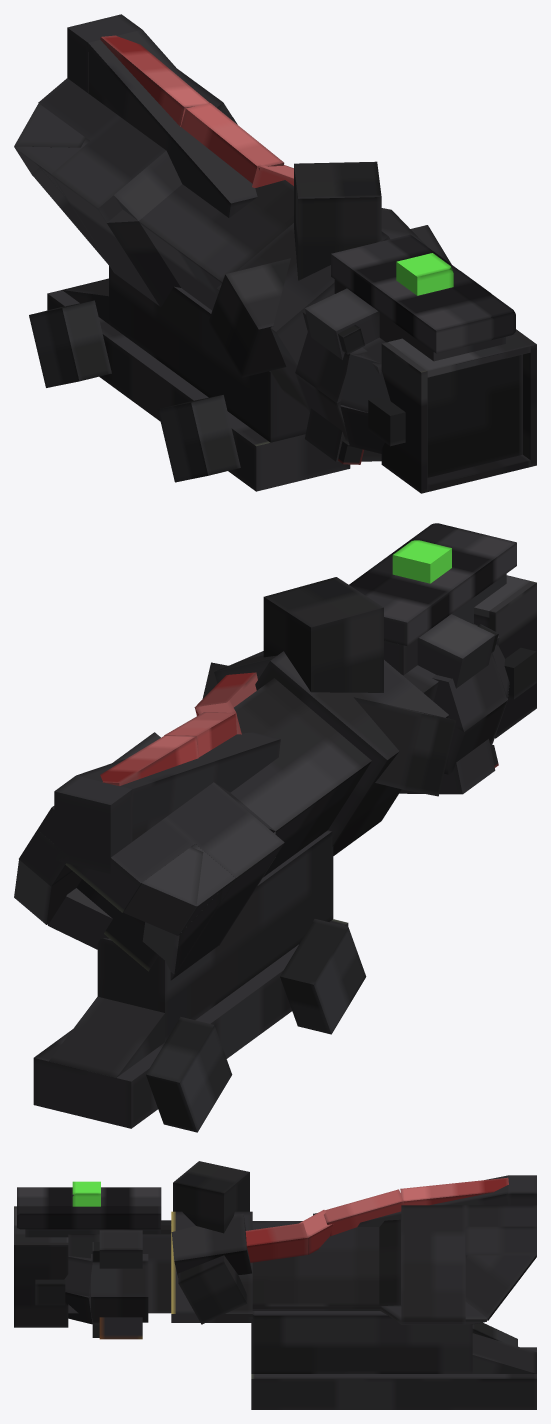
The model's file is acog.obj.
The picture shows the model from 3 angles, top to bottom: view 1: azimuth 30°, elevation 25°; view 2: azimuth 150°, elevation 25°; view 3: azimuth 270°, elevation 25°; orthographic projection. The views are drawn at different scales.
Parts seen in each view (by area): view 1: scopepip_1, _cb_scope_1; view 2: scopepip_1, _cb_scope_1; view 3: scopepip_1, _cb_scope_1.
Boxes of the visible parts, bbox=[...] form: scopepip_1: bbox=[14, 14, 536, 493]; _cb_scope_1: bbox=[396, 253, 453, 295]; scopepip_1: bbox=[14, 523, 536, 1132]; _cb_scope_1: bbox=[392, 540, 451, 583]; scopepip_1: bbox=[14, 1161, 536, 1409]; _cb_scope_1: bbox=[72, 1181, 100, 1206].
Bounding box in the file's own units: 0.35 × 0.5588 × 1.14.
